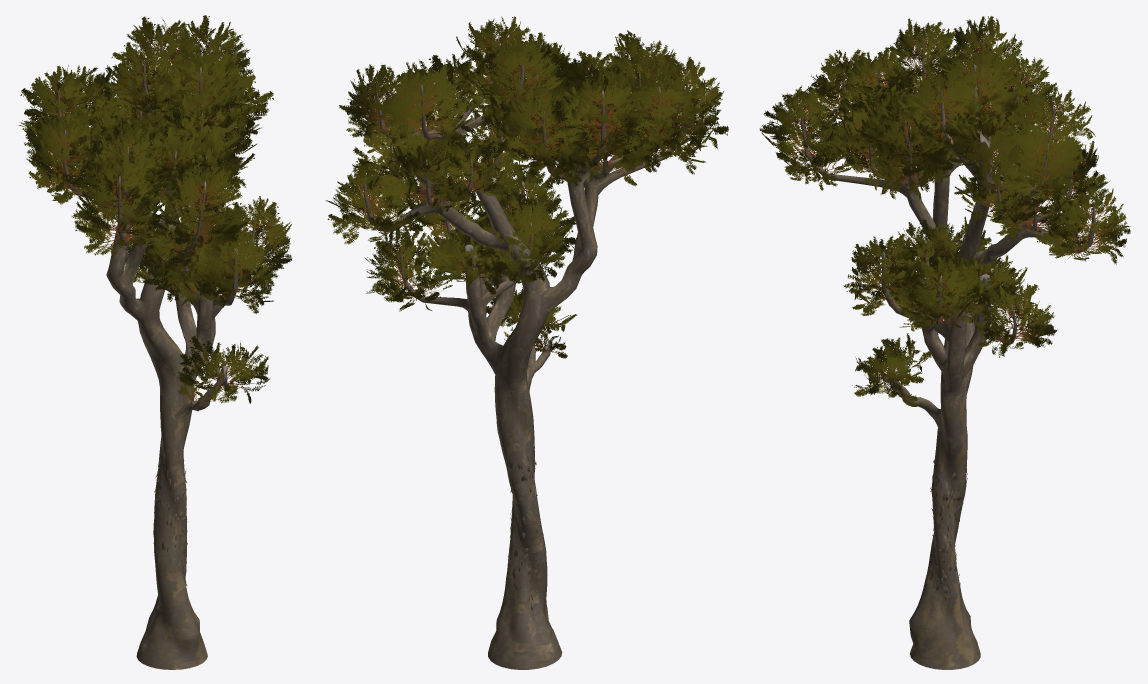
3 views of the same model, side by side, from view 1: azimuth 30°, elevation 25°; view 2: azimuth 150°, elevation 25°; view 3: azimuth 270°, elevation 25° (orthographic). The views are drawn at different scales.
Parts seen in each view (by area): view 1: SM_Yew_01_LOD0; view 2: SM_Yew_01_LOD0; view 3: SM_Yew_01_LOD0.
Part boxes in pixels (x1=…): SM_Yew_01_LOD0: x1=18, y1=15, x2=291, y2=669; SM_Yew_01_LOD0: x1=325, y1=16, x2=728, y2=669; SM_Yew_01_LOD0: x1=759, y1=16, x2=1130, y2=669.
Bounding box in the file's own units: 9.1 × 18.52 × 10.54.
2 materials, 2 textured.
